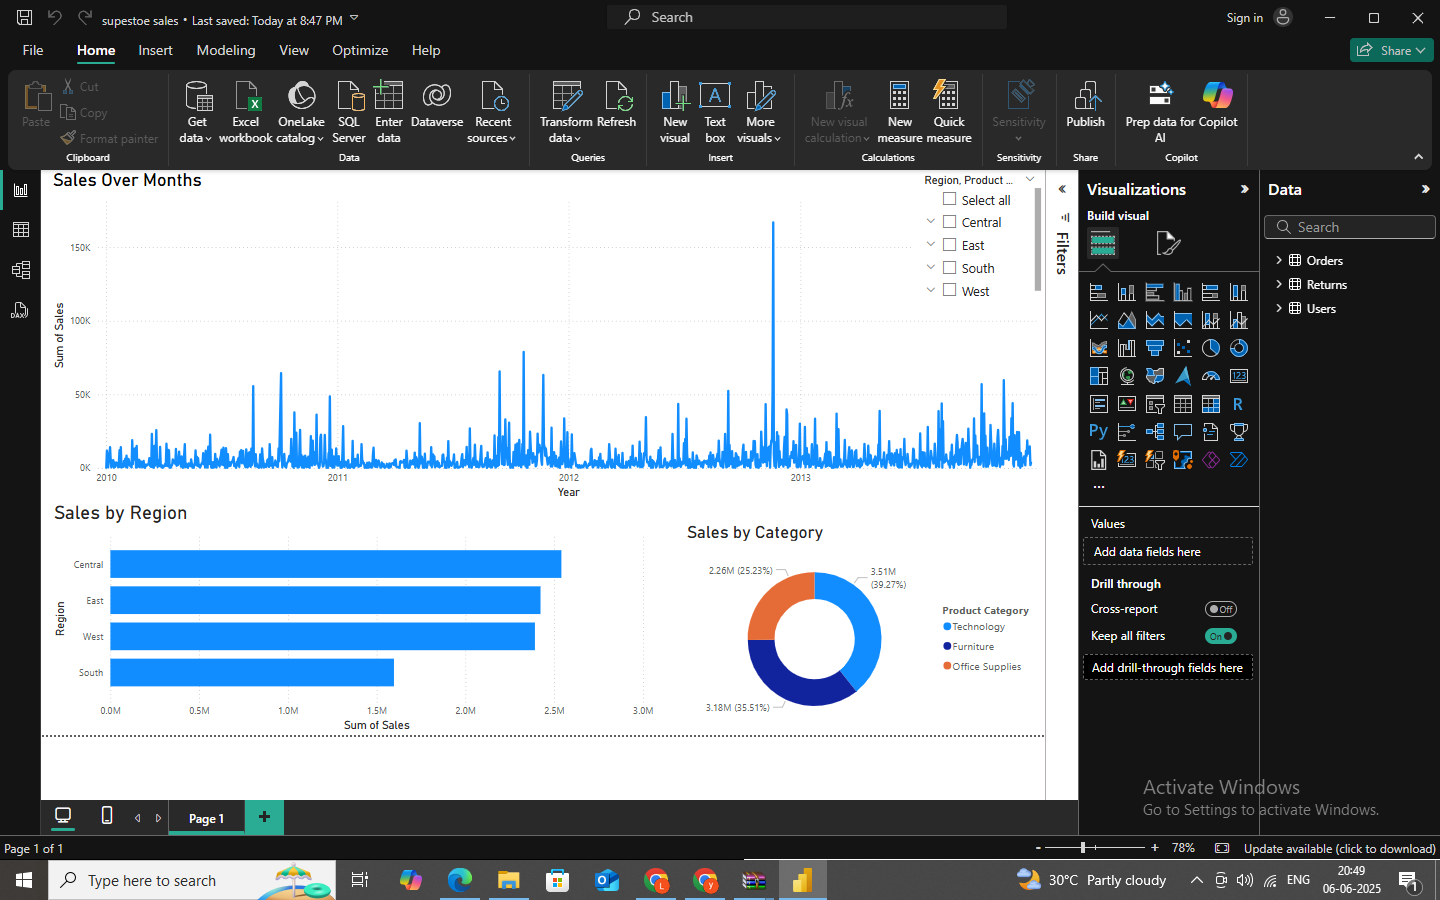

What the dashboard file says about the page in this screenshot:
{"tool":"powerbi","page":{"name":"Page 1","canvas":[1280,720],"ordinal":0},"visuals":[{"type":"lineChart","title":"Sales Over Months","fields":{"Y":["Sum(Orders.Sales)"],"Category":["Orders.Order Date.Variation.Date Hierarchy.Year","Orders.Order Date.Variation.Date Hierarchy.Quarter","Orders.Order Date.Variation.Date Hierarchy.Month","Orders.Order Date.Variation.Date Hierarchy.Day"]},"box":[10.2,0,1269.8,423.3],"z":0},{"type":"barChart","title":"Sales by Region","fields":{"Category":["Orders.Region"],"Y":["Sum(Orders.Sales)"]},"box":[11.5,423.3,775.1,297.1],"z":1000},{"type":"donutChart","title":"Sales by Category","fields":{"Category":["Orders.Product Category"],"Y":["Sum(Orders.Sales)"]},"box":[818.5,448.8,461.5,271.6],"z":2000},{"type":"slicer","fields":{"Values":["Orders.Region","Orders.Product Category"]},"box":[1113,0,167,170.8],"z":2001}]}

Visuals, with their boxes on the page's 1280x720 design canvas (x1, y1, x2, y2). These are canvas units, not pixel positions in the 1440x900 screenshot, which may show the page scaled, cropped or inside an application window:
"Sales Over Months" lineChart: bbox=[10, 0, 1280, 423]
"Sales by Region" barChart: bbox=[12, 423, 787, 720]
"Sales by Category" donutChart: bbox=[818, 449, 1280, 720]
slicer - Orders.Region x Orders.Product Category: bbox=[1113, 0, 1280, 171]
